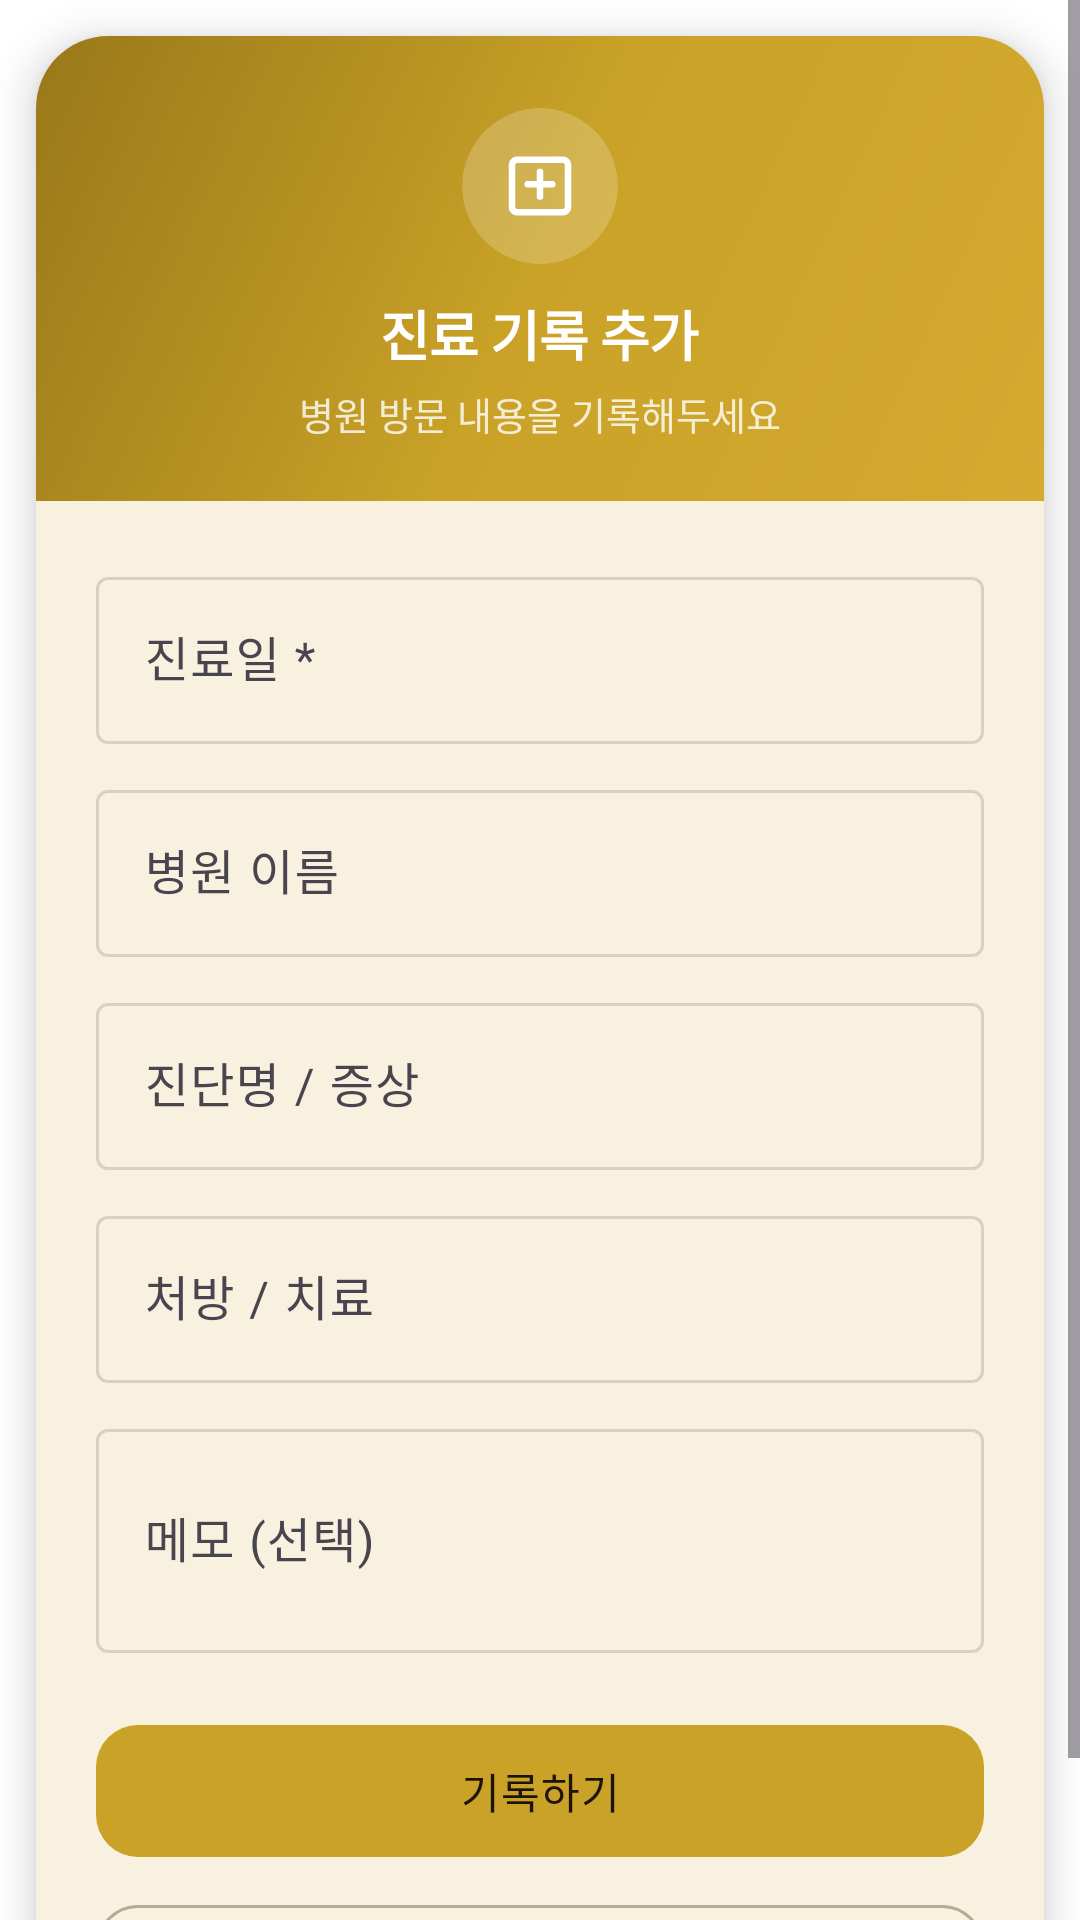

Where icons sit on this 1080x1920 app screen, as bbox(x1, y1, x2, y2):
hospital: bbox(462, 108, 618, 264)
